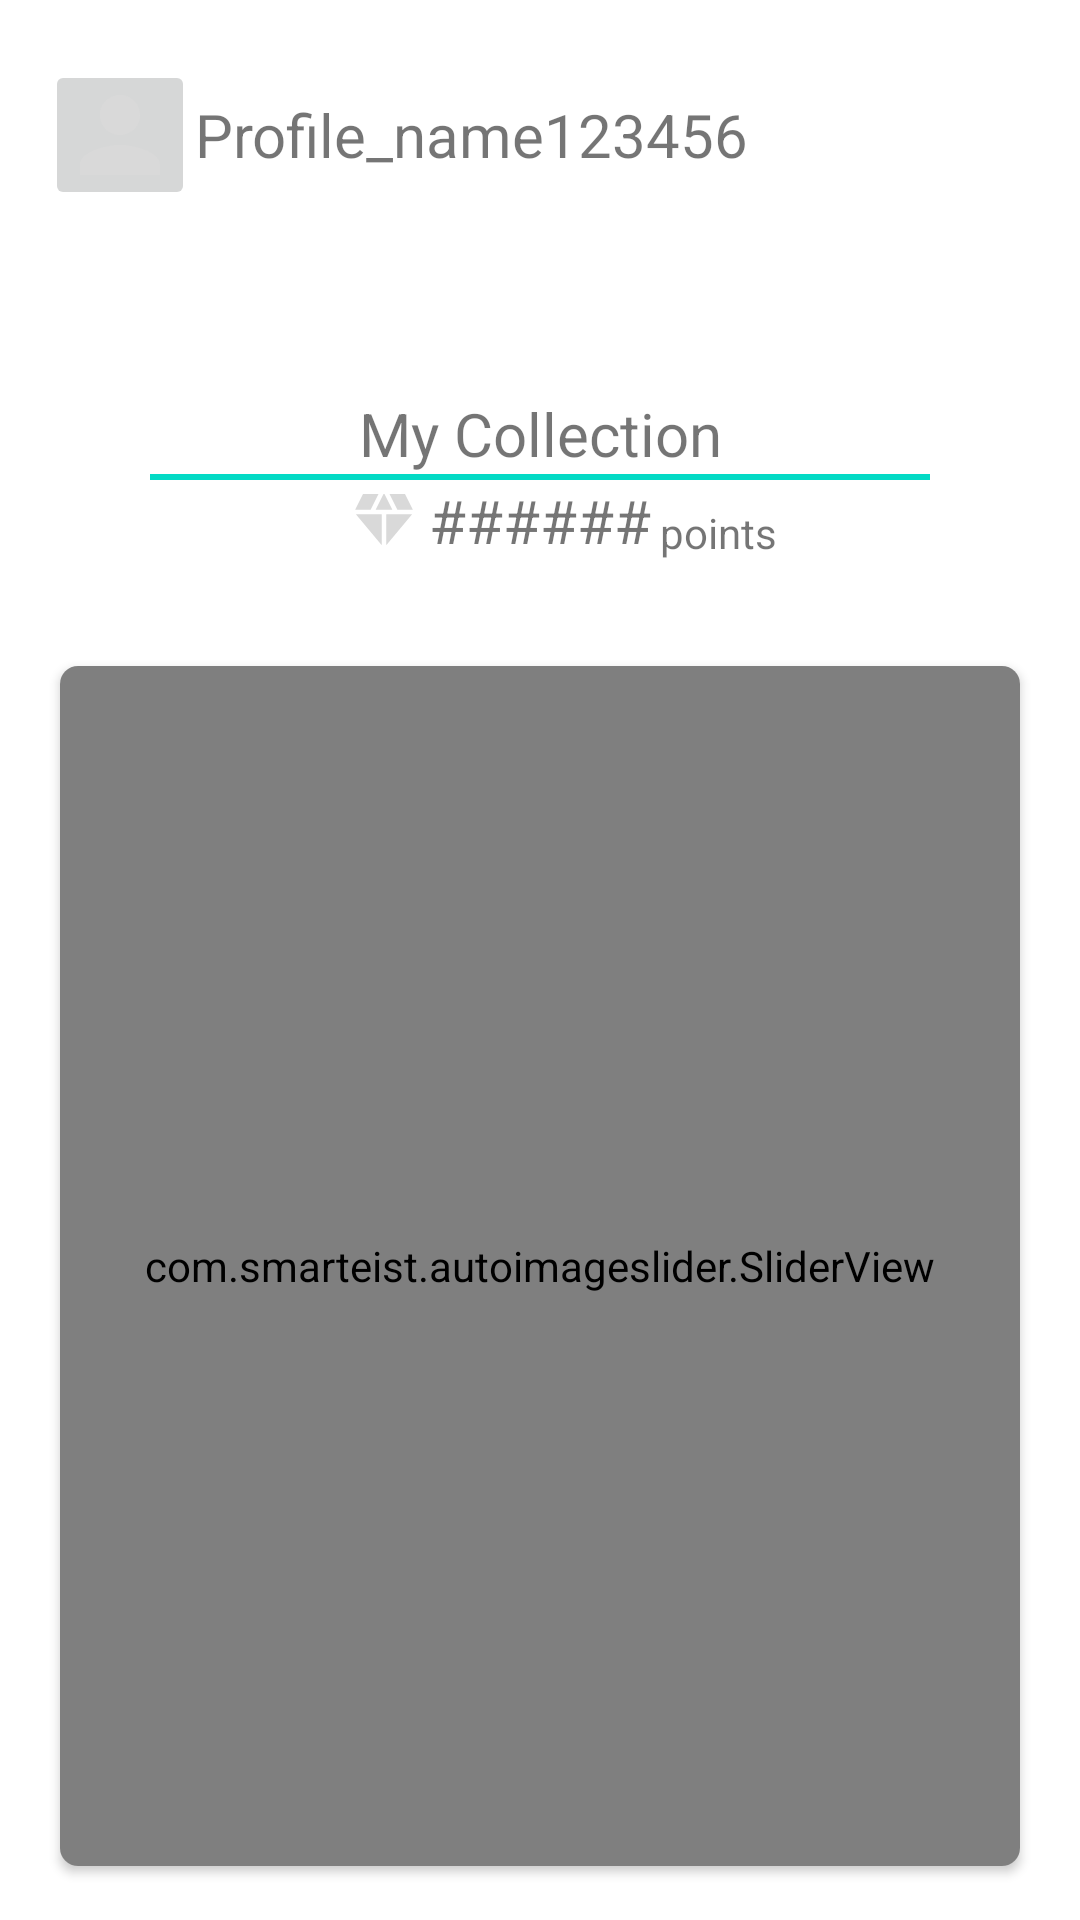

Where icons sit on this 1080w x 1920h app screen, as (x1, y1, x2, y2):
diamond: (356, 494, 412, 544)
